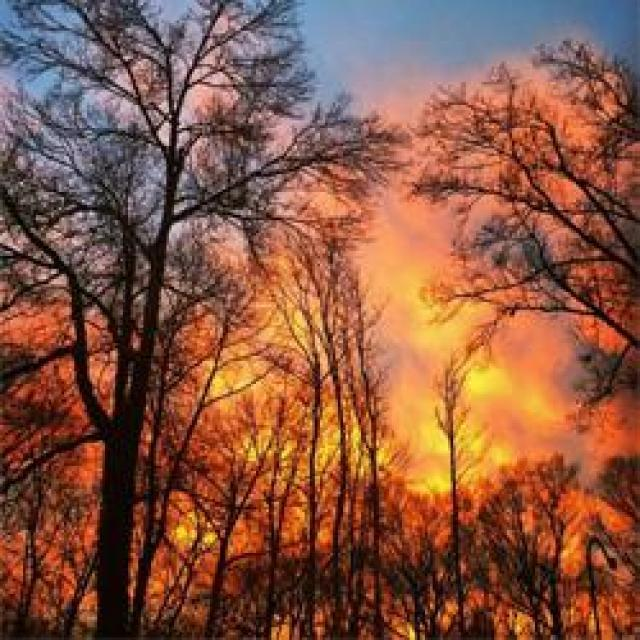Fire: (397, 278, 549, 482), (196, 308, 332, 460), (170, 511, 232, 552)
